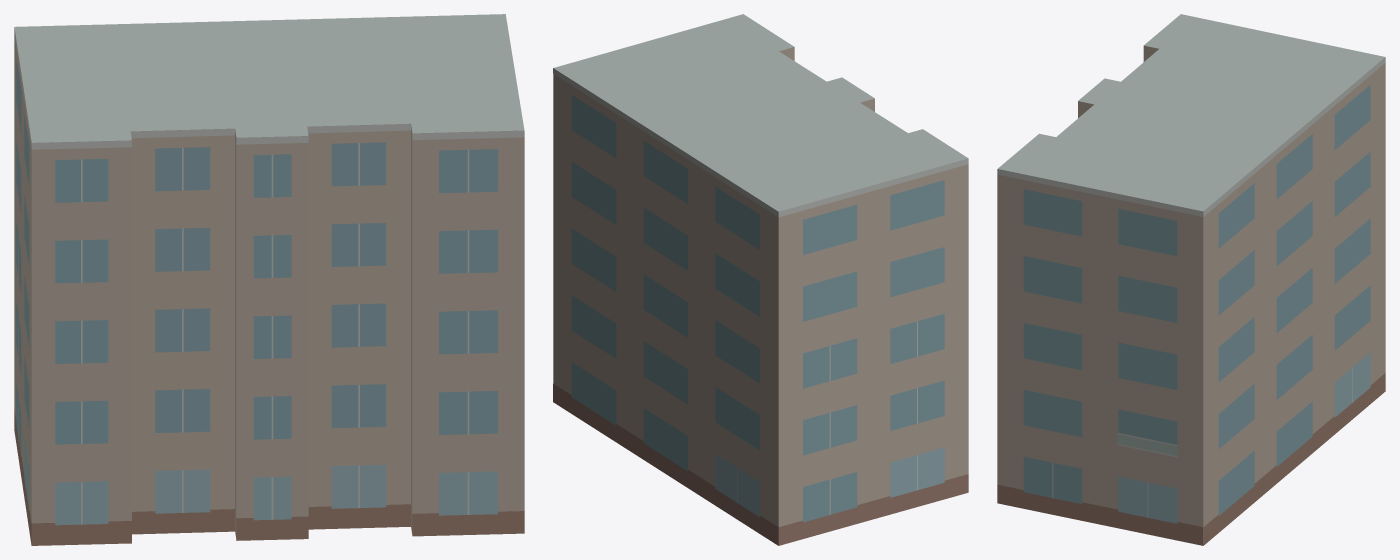
The model's file is survey-upis-32842175.glb.
3 views of the same model, side by side, from view 1: azimuth 30°, elevation 25°; view 2: azimuth 150°, elevation 25°; view 3: azimuth 270°, elevation 25° (orthographic). The views are drawn at different scales.
Parts seen in each view (by area): view 1: survey-upis-32842175.tmp; view 2: survey-upis-32842175.tmp; view 3: survey-upis-32842175.tmp.
Boxes of the visible parts, x1,y1,x2,y2 form: survey-upis-32842175.tmp: (14, 14, 524, 545); survey-upis-32842175.tmp: (553, 14, 968, 545); survey-upis-32842175.tmp: (997, 14, 1385, 545).
Size of the model in its own units: 18.18 by 14.35 by 15.1.
